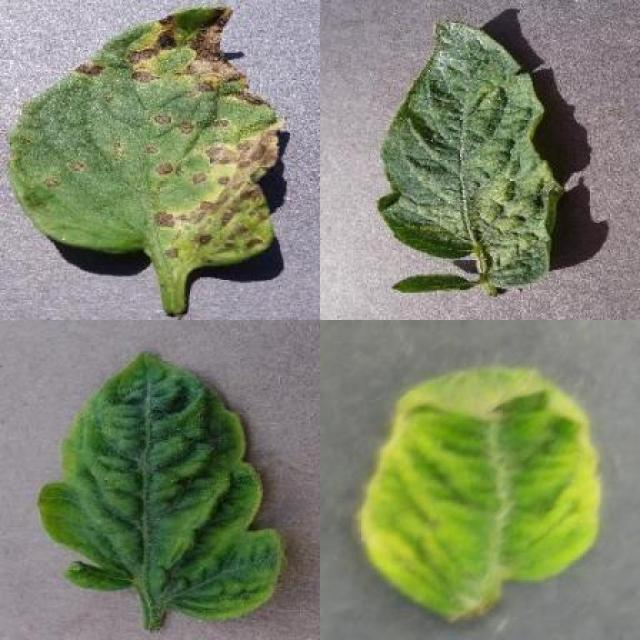Septoria: (10, 7, 280, 270)
Spider Mites: (376, 18, 567, 293)
Yellow Leaf Curl Virus: (37, 348, 283, 622), (355, 366, 602, 627)
